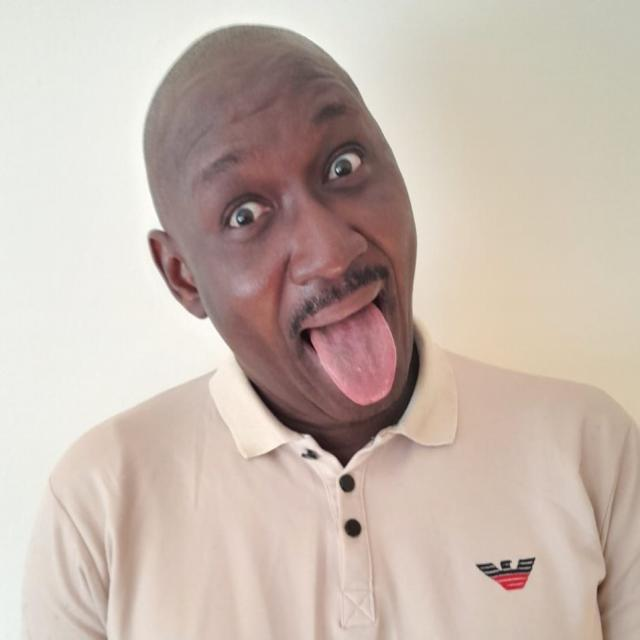happy: (134, 20, 427, 432)
